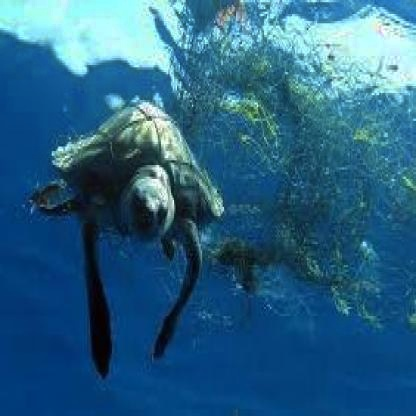net: (177, 3, 416, 318)
